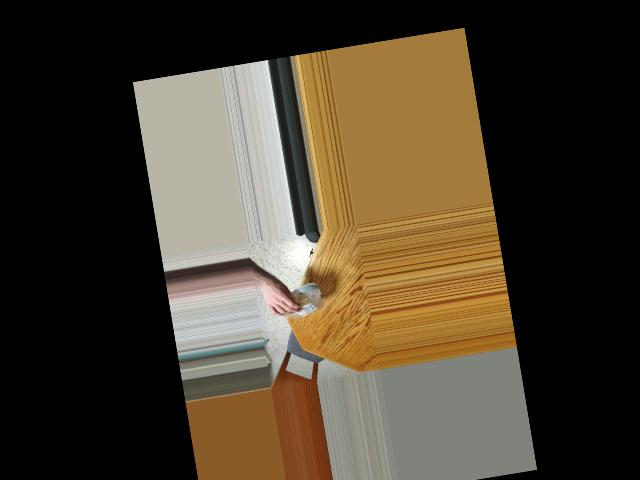cheese: (269, 282, 311, 321)
